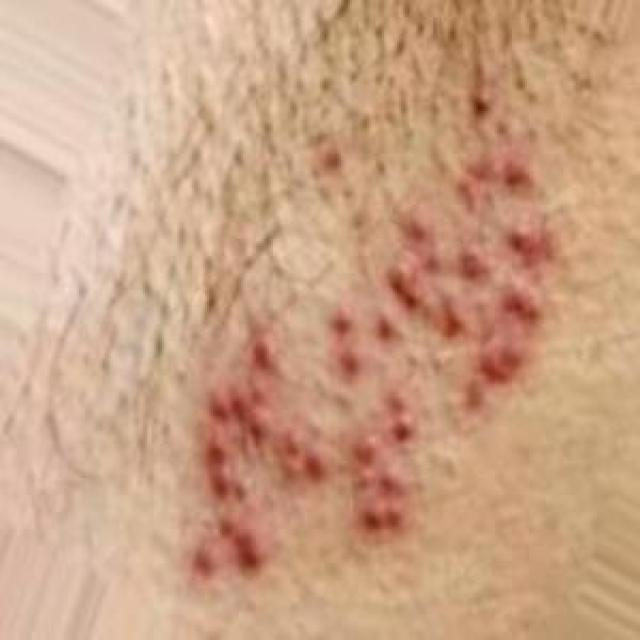Shingles: (178, 95, 558, 580)
